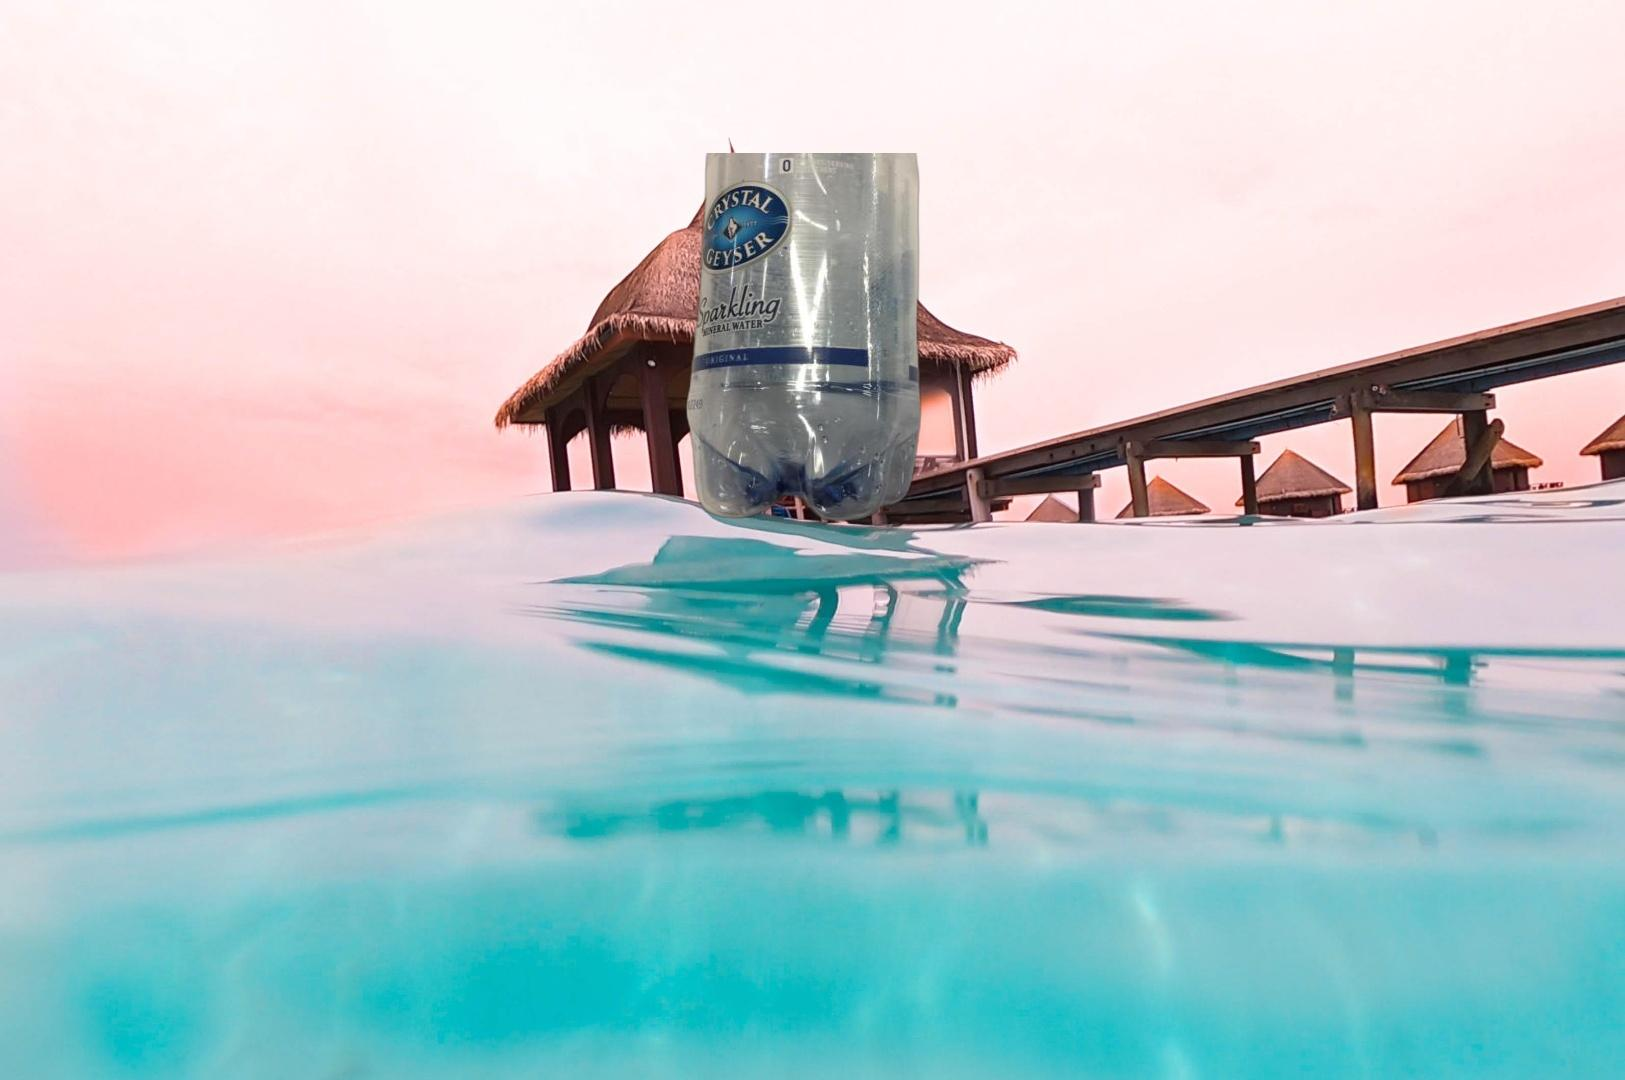plastic-bottles: (681, 153, 925, 524)
